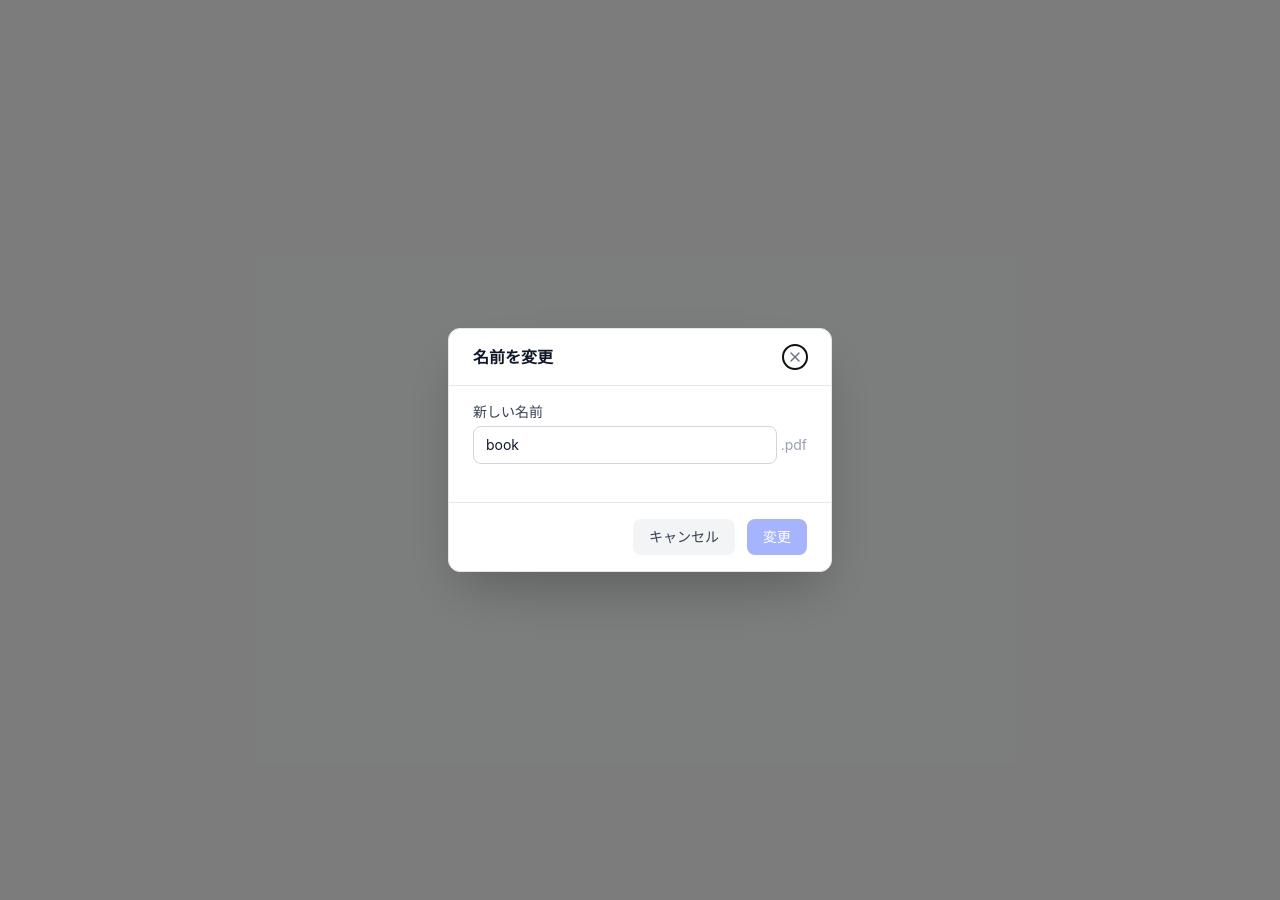
RenameDialog › 不正文字を入力するとエラーが表示され、変更ボタンが disabled
Step 1. Replace the text in the field labelled "新しい名前" with "bad/name" → (625, 445), box [473,426,777,464]
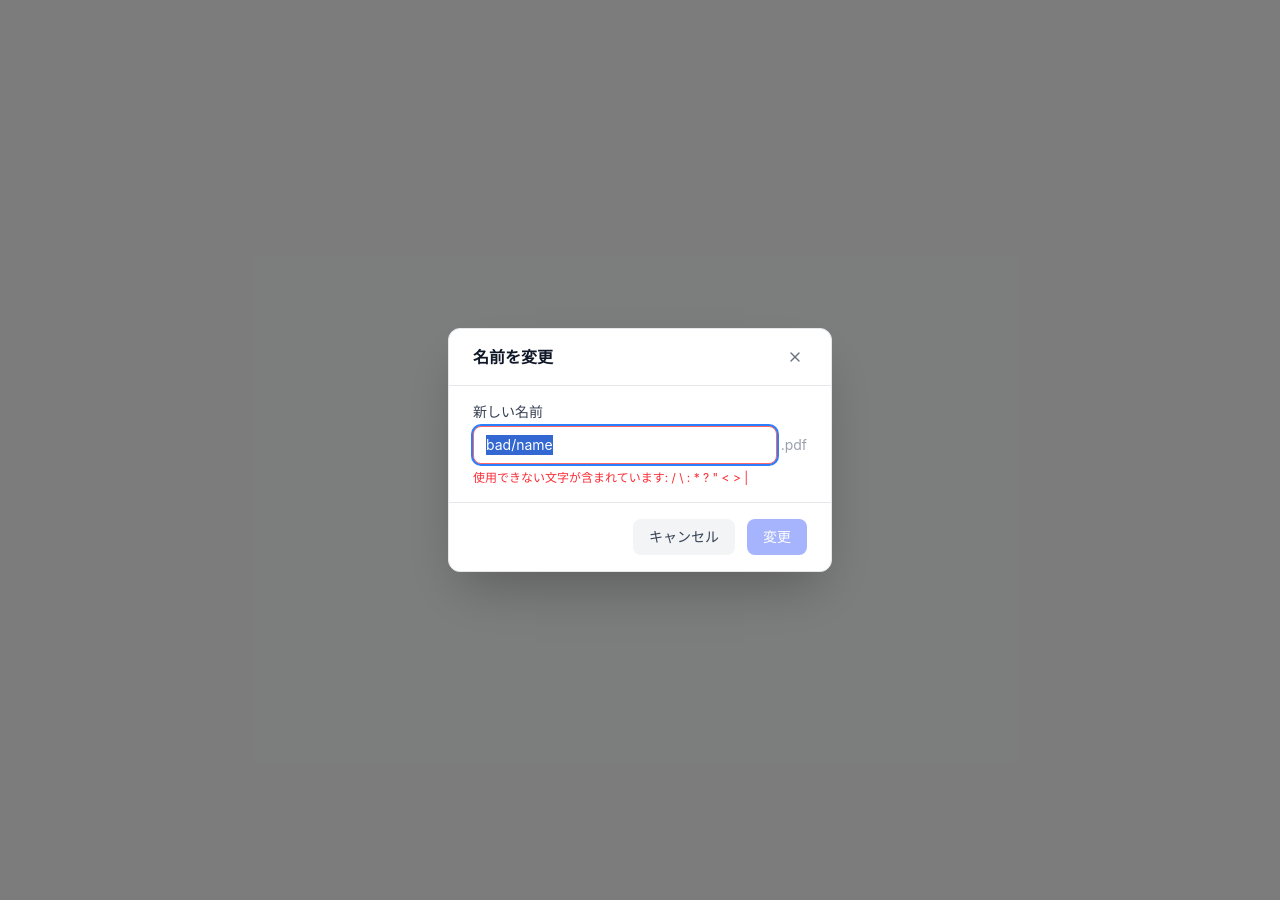
Check: the button "変更" is disabled, box [747,519,807,555]
Check: the text "使用できない文字" is shown, box [473,470,748,485]
